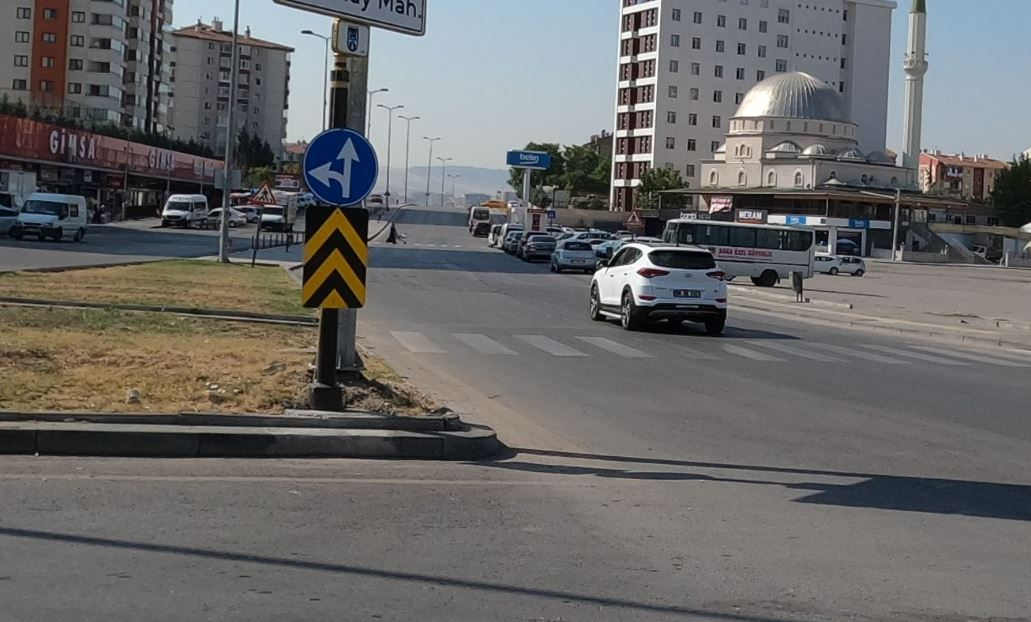ileri ve Sola Mecburi Don: (300, 129, 386, 210)
